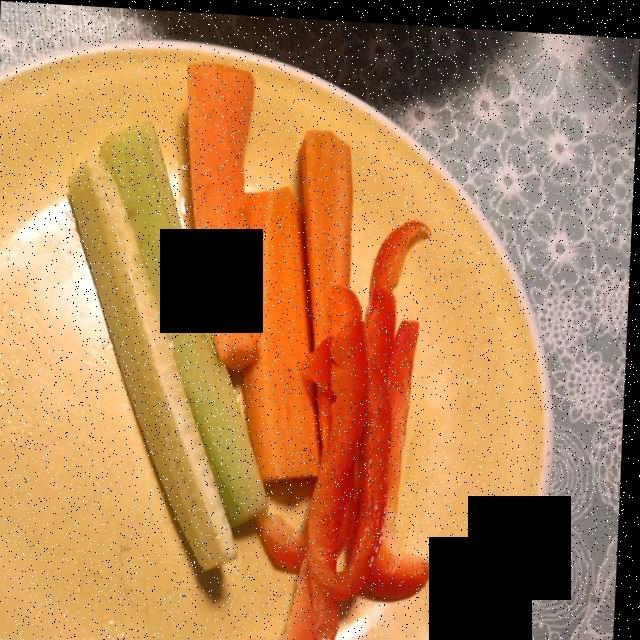bell-pepper: (276, 222, 425, 639)
carrot: (190, 67, 352, 477)
cucumber: (73, 124, 260, 554)
